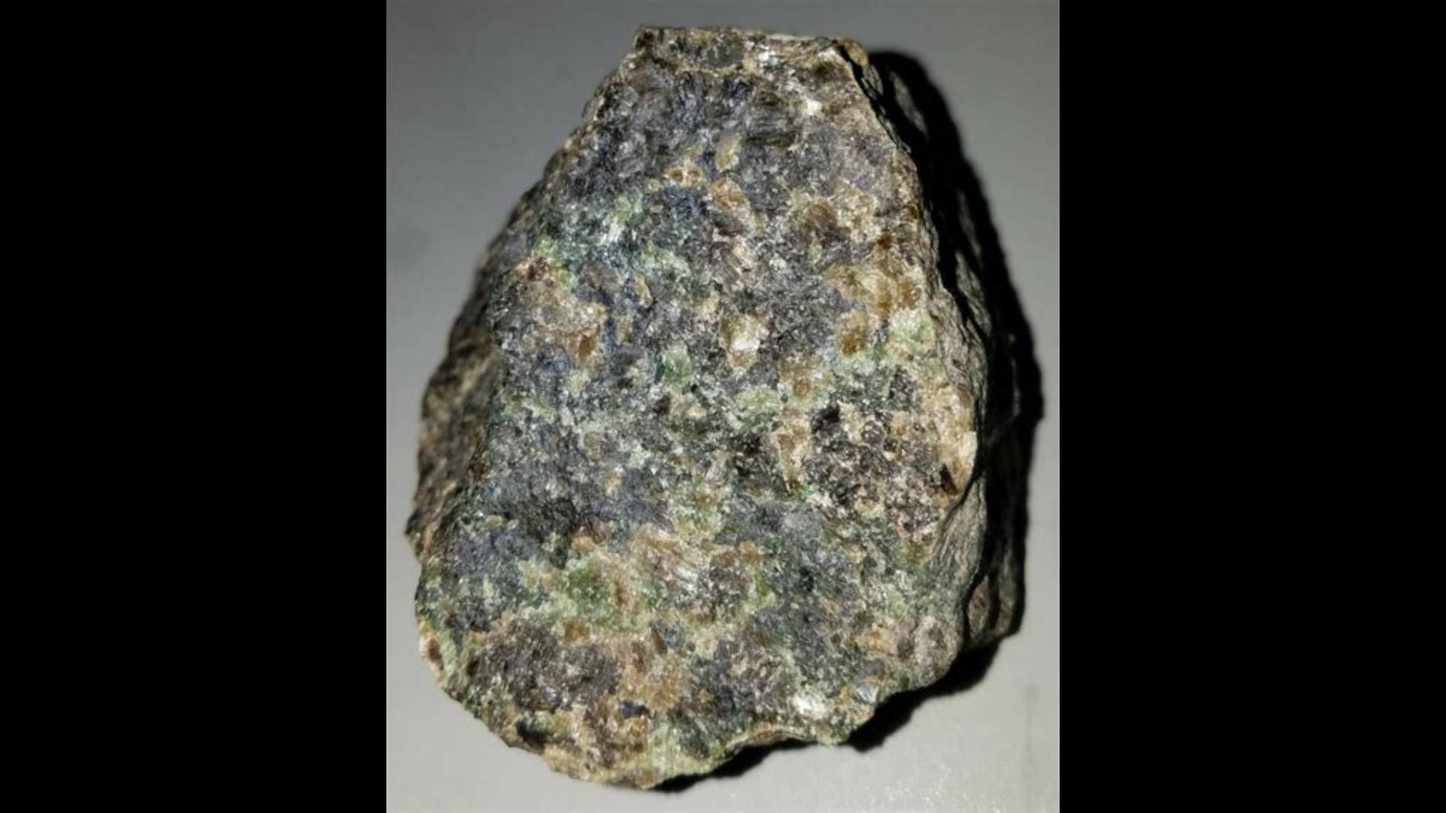rock: (409, 33, 1039, 786)
